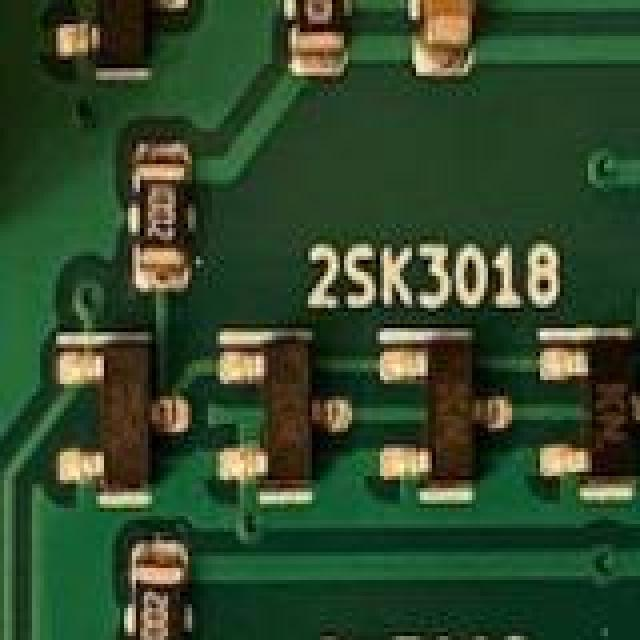capacitor: (412, 0, 488, 88)
resistor: (124, 152, 212, 292), (128, 548, 188, 640)
transistor: (400, 336, 508, 504), (220, 340, 324, 504), (52, 328, 164, 472), (556, 328, 634, 508), (64, 0, 176, 56)
